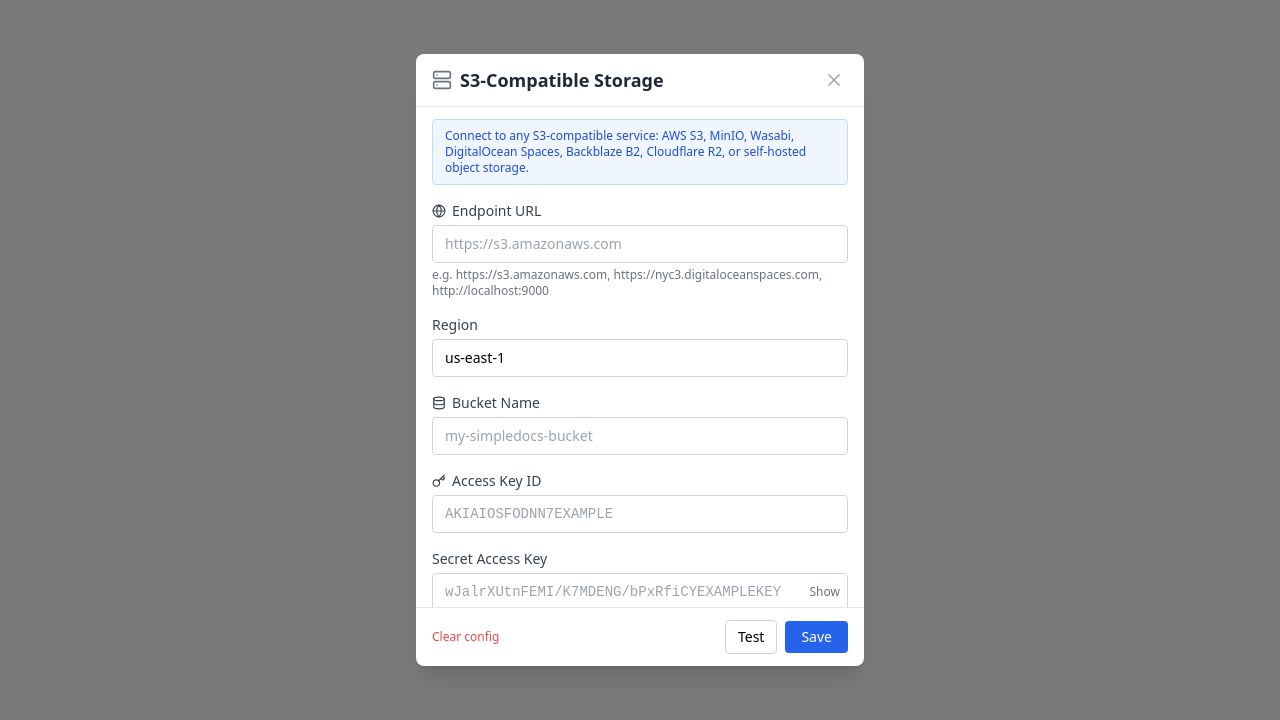
S3ConfigModal › error dismissal › allows dismissing error message
This screenshot has width=1280, height=720.
What coordinates should you click on to do the following:
click the button "Test"
I would click on:
 (751, 637)
Its box is [725,620,778,654].
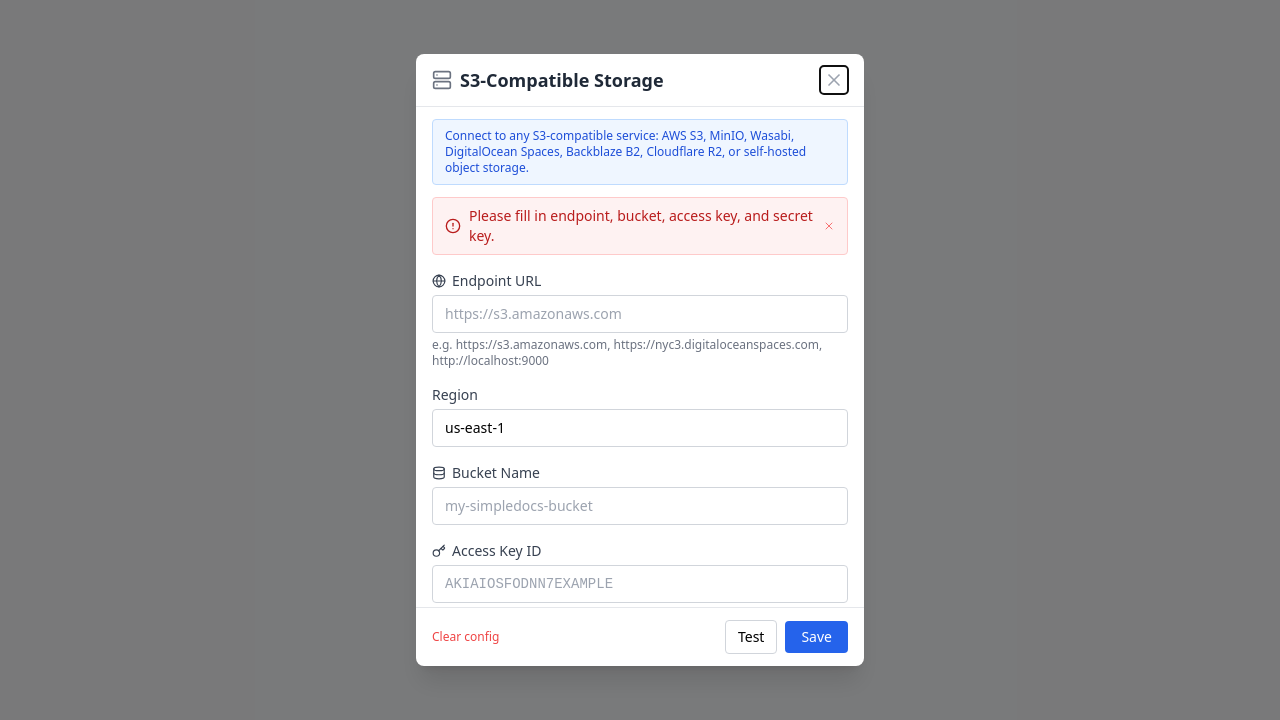
Expected: the text "Please fill in endpoint, bucket, access key, and secret key." is shown, [469,206,815,246]
Expected: the 2nd button is shown
What coordinates should you click on to do the following:
click the 2nd button
I would click on:
 (829, 226)
Its box is [823,220,835,232].
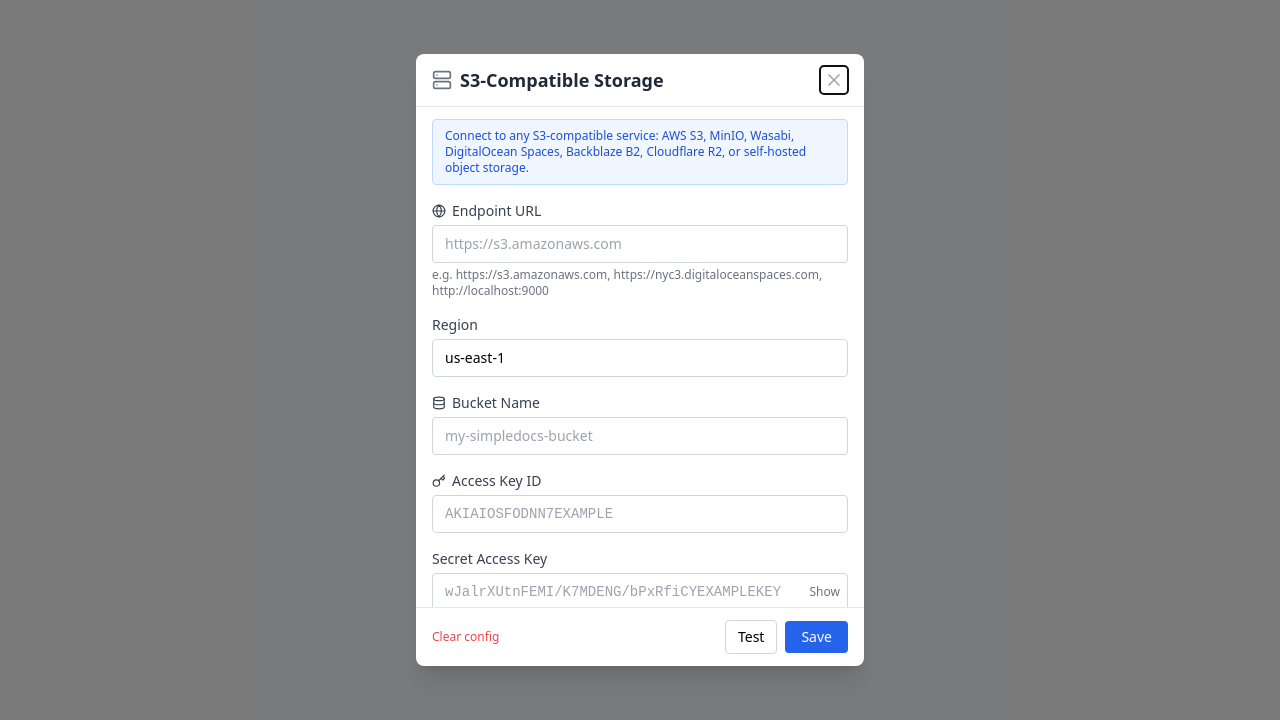
Expected: the text "Please fill in endpoint" is gone
